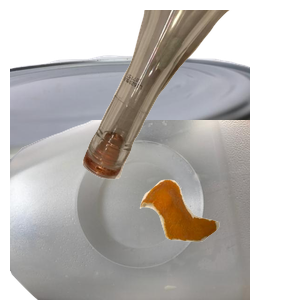glass: (80, 10, 300, 182)
metal: (10, 52, 250, 232)
plastic: (10, 120, 250, 300)
trash: (137, 177, 300, 300)
